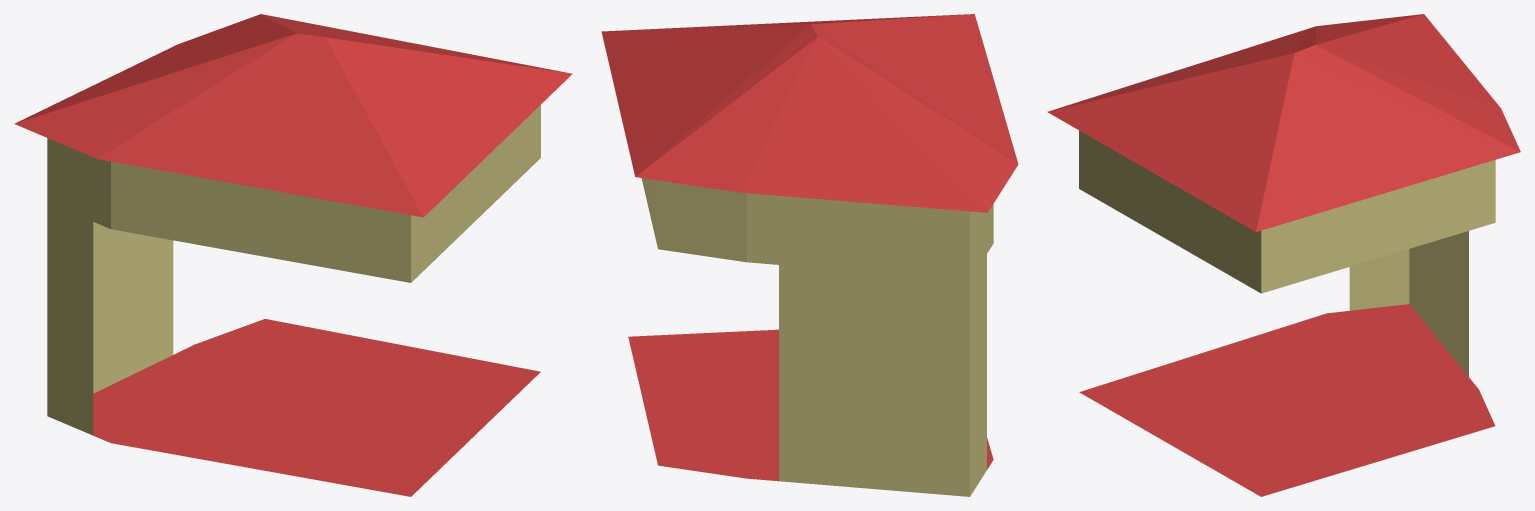
3 renders of one model, left to right at view 1: azimuth 30°, elevation 25°; view 2: azimuth 150°, elevation 25°; view 3: azimuth 270°, elevation 25°, orthographic. The views are drawn at different scales.
Parts seen in each view (by area): view 1: group_6, group_7, group_3, group_4, group_5; view 2: group_6, group_3, group_4, group_7, group_5; view 3: group_7, group_3, group_6, group_5, group_4.
Part boxes in pixels (bbox=[...]): group_6: bbox=[47, 105, 540, 435]; group_7: bbox=[93, 319, 540, 496]; group_3: bbox=[98, 14, 555, 217]; group_4: bbox=[14, 33, 295, 158]; group_5: bbox=[99, 14, 572, 217]; group_6: bbox=[641, 178, 993, 496]; group_3: bbox=[620, 14, 1018, 192]; group_4: bbox=[741, 37, 1018, 212]; group_7: bbox=[628, 329, 993, 481]; group_5: bbox=[601, 14, 1010, 192]; group_7: bbox=[1079, 304, 1495, 496]; group_3: bbox=[1051, 26, 1520, 231]; group_6: bbox=[1079, 130, 1495, 376]; group_5: bbox=[1047, 26, 1520, 231]; group_4: bbox=[1315, 14, 1500, 108].
Bounding box in the file's own units: 16.82 × 15.44 × 12.65.
